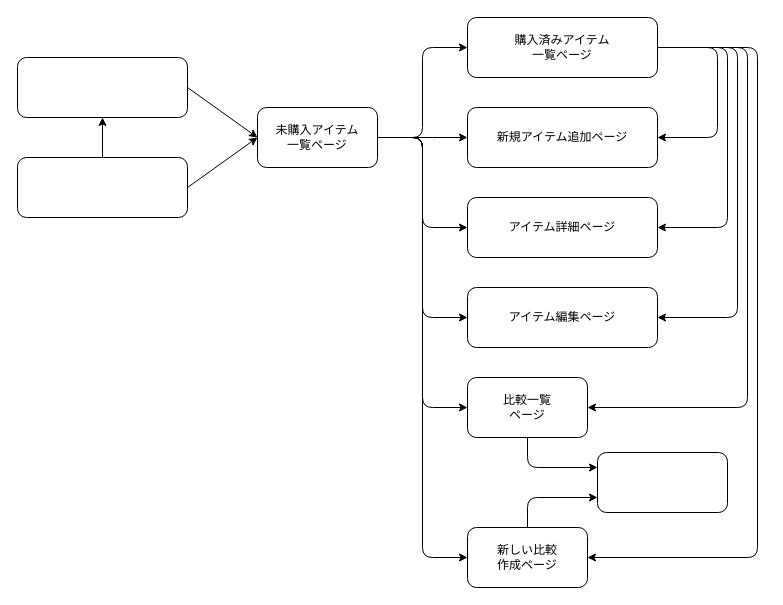
This 783x605 diagram has some shape labels left out. The centre of each missing label's shape, as x and y in pixels:
サインアップページ: (102,87)
サインインページ: (102,187)
比較詳細ページ: (662,482)
